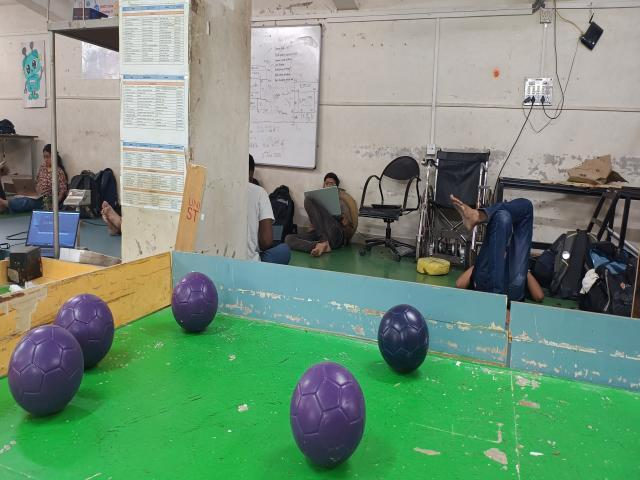jambhalya: (290, 362, 365, 467), (8, 325, 84, 415), (55, 293, 115, 368), (171, 272, 218, 332)
kaalyya: (378, 305, 429, 373)
